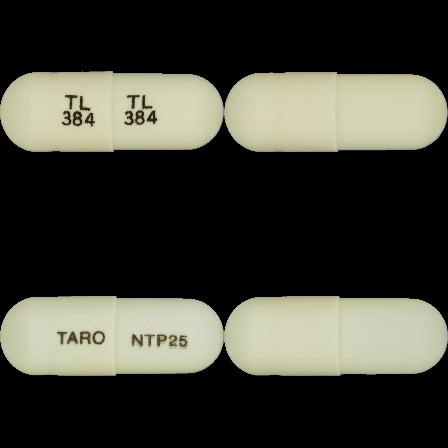53217-212: (0, 0, 224, 224)
